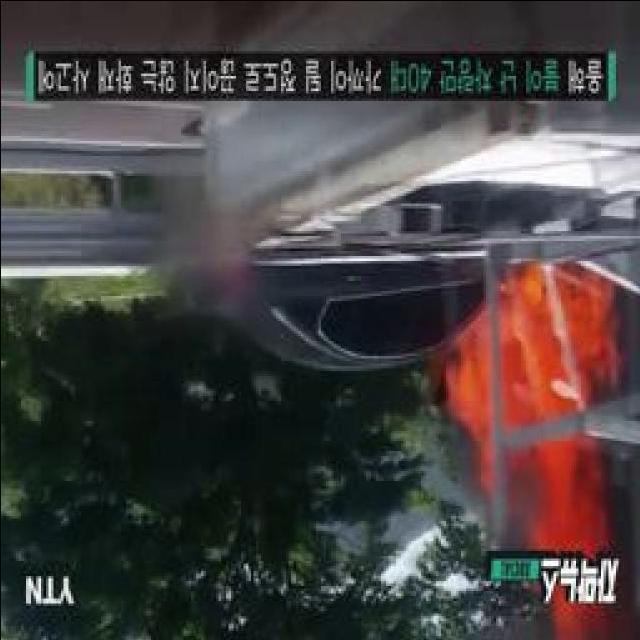Fire: (450, 248, 610, 558)
